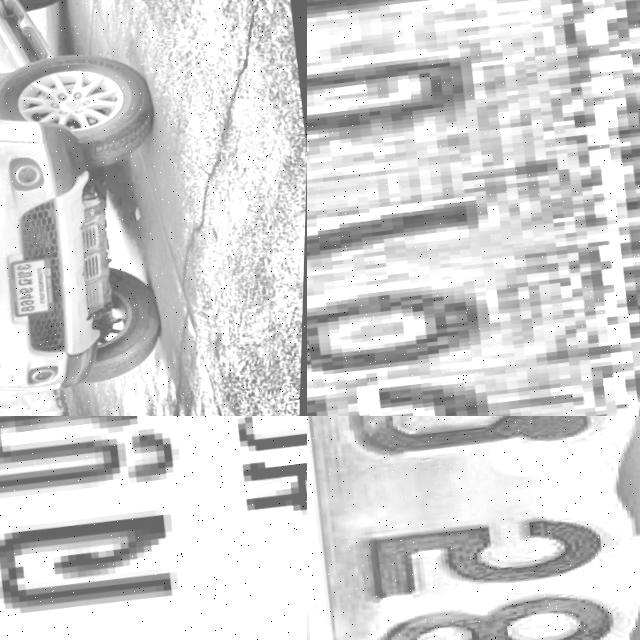license-plate: (307, 0, 640, 416), (307, 416, 640, 640), (0, 416, 307, 640), (11, 254, 63, 316)
